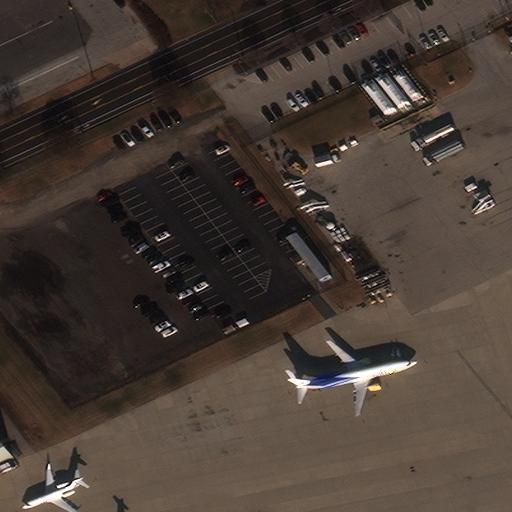Medium Civil Transport: (286, 339, 415, 414), (22, 463, 83, 512)
